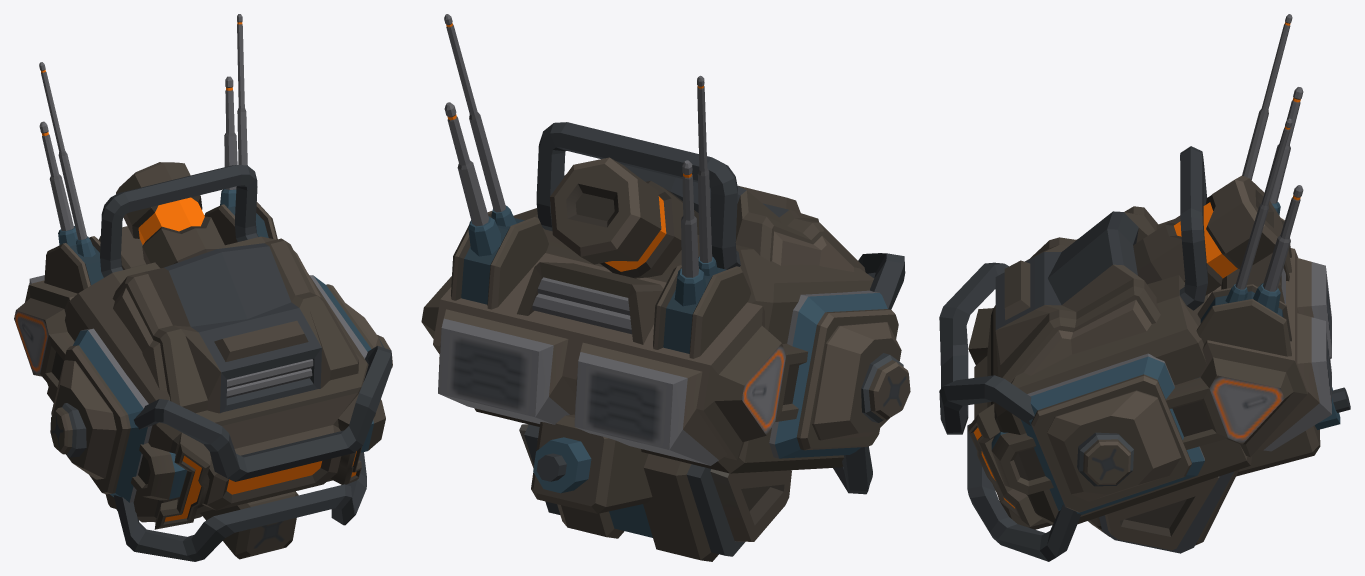
File: SM_Mech_Head_01_Armor_Helmet_04.fbx
3 views of the same model, side by side, from view 1: azimuth 30°, elevation 25°; view 2: azimuth 150°, elevation 25°; view 3: azimuth 270°, elevation 25° (orthographic). The views are drawn at different scales.
Visible parts, largest first — view 1: SM_Mech_Head_01_Armor_Helmet_04; view 2: SM_Mech_Head_01_Armor_Helmet_04; view 3: SM_Mech_Head_01_Armor_Helmet_04.
Part boxes in pixels (x1,y1,x2,y2): SM_Mech_Head_01_Armor_Helmet_04: (14, 14, 392, 561); SM_Mech_Head_01_Armor_Helmet_04: (421, 14, 910, 561); SM_Mech_Head_01_Armor_Helmet_04: (939, 14, 1350, 561).
Size of the model in its own units: 73.47 by 90.95 by 73.48.
